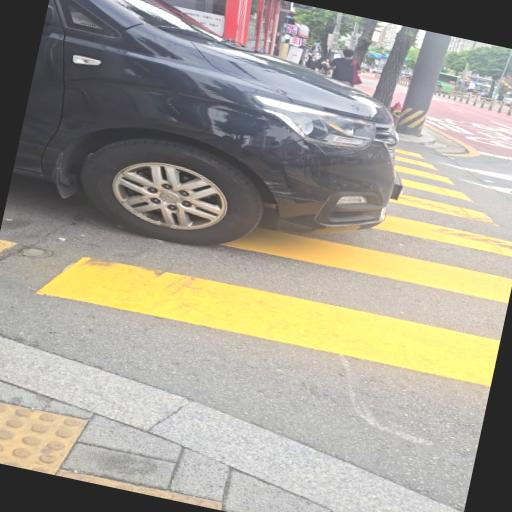yellow-crosswalk: (21, 69, 512, 411)
